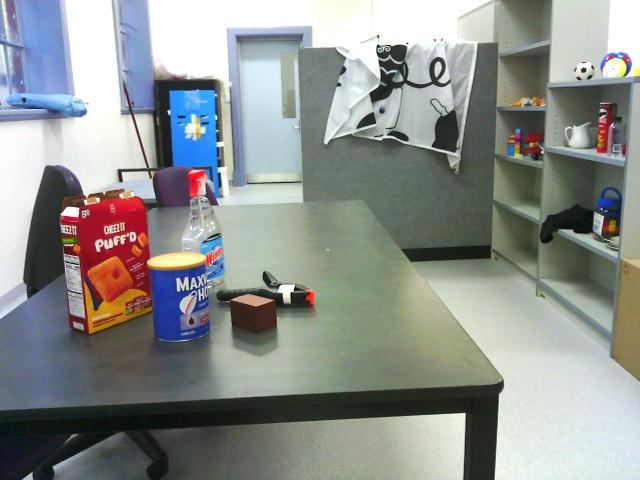002_master_chef_can: (149, 251, 213, 345)
003_cracker_box: (56, 191, 154, 335)
051_large_clamp: (216, 266, 318, 312)
061_foam_brick: (228, 292, 277, 335)
